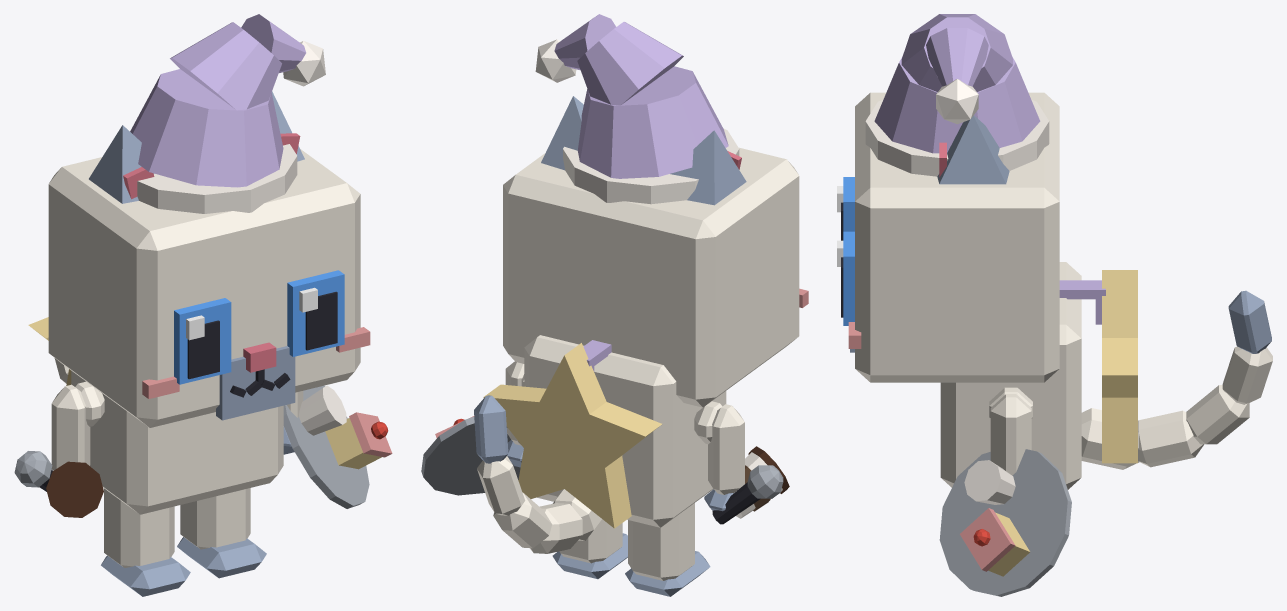
Rendered from CatCafe_Cat_Ragdoll_Work.fbx.
3 renders of one model, left to right at view 1: azimuth 30°, elevation 25°; view 2: azimuth 150°, elevation 25°; view 3: azimuth 270°, elevation 25°, orthographic. The views are drawn at different scales.
Visible parts, largest first — view 1: CatCafe_Cat_Ragdoll_Work_Head, CatCafe_Cat_Ragdoll_Work_Prop, CatCafe_Cat_Ragdoll_Work_Body, CatCafe_Cat_Ragdoll_Work_Held_Waiter, CatCafe_Cat_Ragdoll_Work_LegB2, CatCafe_Cat_Ragdoll_Work_LegB1, CatCafe_Cat_Ragdoll_Work_Eye2, CatCafe_Cat_Ragdoll_Work_Eye1, CatCafe_Cat_Ragdoll_Work_LegF2, CatCafe_Cat_Ragdoll_Work_EarR, CatCafe_Cat_Ragdoll_Work_Held_Barista, CatCafe_Cat_Ragdoll_Work_Held_Entertainer (+1 smaller); view 2: CatCafe_Cat_Ragdoll_Work_Head, CatCafe_Cat_Ragdoll_Work_Prop, CatCafe_Cat_Ragdoll_Work_Prop2, CatCafe_Cat_Ragdoll_Work_Body, CatCafe_Cat_Ragdoll_Work_Tail, CatCafe_Cat_Ragdoll_Work_LegB2, CatCafe_Cat_Ragdoll_Work_Held_Waiter, CatCafe_Cat_Ragdoll_Work_LegF2, CatCafe_Cat_Ragdoll_Work_EarR, CatCafe_Cat_Ragdoll_Work_LegB1, CatCafe_Cat_Ragdoll_Work_Held_Entertainer, CatCafe_Cat_Ragdoll_Work_EarL (+2 smaller); view 3: CatCafe_Cat_Ragdoll_Work_Head, CatCafe_Cat_Ragdoll_Work_Prop, CatCafe_Cat_Ragdoll_Work_Held_Waiter, CatCafe_Cat_Ragdoll_Work_Body, CatCafe_Cat_Ragdoll_Work_Tail, CatCafe_Cat_Ragdoll_Work_Prop2, CatCafe_Cat_Ragdoll_Work_EarL, CatCafe_Cat_Ragdoll_Work_LegF1, CatCafe_Cat_Ragdoll_Work_Eye1, CatCafe_Cat_Ragdoll_Work_Eye2.
Part boxes in pixels (x1,y1,x2,y2): CatCafe_Cat_Ragdoll_Work_Head: [48, 149, 370, 427]; CatCafe_Cat_Ragdoll_Work_Prop: [130, 14, 325, 213]; CatCafe_Cat_Ragdoll_Work_Body: [71, 371, 283, 514]; CatCafe_Cat_Ragdoll_Work_Held_Waiter: [283, 385, 392, 508]; CatCafe_Cat_Ragdoll_Work_LegB2: [101, 488, 190, 596]; CatCafe_Cat_Ragdoll_Work_LegB1: [177, 488, 266, 578]; CatCafe_Cat_Ragdoll_Work_Eye2: [174, 298, 231, 384]; CatCafe_Cat_Ragdoll_Work_Eye1: [287, 270, 344, 356]; CatCafe_Cat_Ragdoll_Work_LegF2: [51, 384, 90, 470]; CatCafe_Cat_Ragdoll_Work_EarR: [89, 125, 154, 203]; CatCafe_Cat_Ragdoll_Work_Held_Barista: [46, 461, 103, 517]; CatCafe_Cat_Ragdoll_Work_Held_Entertainer: [14, 451, 52, 491]; CatCafe_Cat_Ragdoll_Work_Head: [503, 147, 808, 407]; CatCafe_Cat_Ragdoll_Work_Prop: [535, 14, 739, 204]; CatCafe_Cat_Ragdoll_Work_Prop2: [483, 340, 662, 528]; CatCafe_Cat_Ragdoll_Work_Body: [521, 335, 726, 527]; CatCafe_Cat_Ragdoll_Work_Tail: [474, 395, 601, 553]; CatCafe_Cat_Ragdoll_Work_LegB2: [625, 503, 710, 596]; CatCafe_Cat_Ragdoll_Work_Held_Waiter: [421, 416, 520, 495]; CatCafe_Cat_Ragdoll_Work_LegF2: [704, 404, 744, 511]; CatCafe_Cat_Ragdoll_Work_EarR: [670, 130, 746, 205]; CatCafe_Cat_Ragdoll_Work_LegB1: [552, 519, 627, 579]; CatCafe_Cat_Ragdoll_Work_Held_Entertainer: [712, 465, 783, 524]; CatCafe_Cat_Ragdoll_Work_EarL: [541, 96, 583, 170]; CatCafe_Cat_Ragdoll_Work_Head: [848, 92, 1059, 382]; CatCafe_Cat_Ragdoll_Work_Prop: [865, 14, 1049, 176]; CatCafe_Cat_Ragdoll_Work_Held_Waiter: [939, 449, 1071, 596]; CatCafe_Cat_Ragdoll_Work_Body: [940, 262, 1081, 489]; CatCafe_Cat_Ragdoll_Work_Tail: [1081, 290, 1272, 469]; CatCafe_Cat_Ragdoll_Work_Prop2: [1059, 270, 1137, 463]; CatCafe_Cat_Ragdoll_Work_EarL: [937, 115, 1009, 184]; CatCafe_Cat_Ragdoll_Work_LegF1: [990, 394, 1031, 475]; CatCafe_Cat_Ragdoll_Work_Eye1: [837, 231, 854, 325]; CatCafe_Cat_Ragdoll_Work_Eye2: [837, 177, 854, 240].
Bounding box in the file's own units: 1.84 × 2.7 × 1.94.
1 material, 1 textured.
